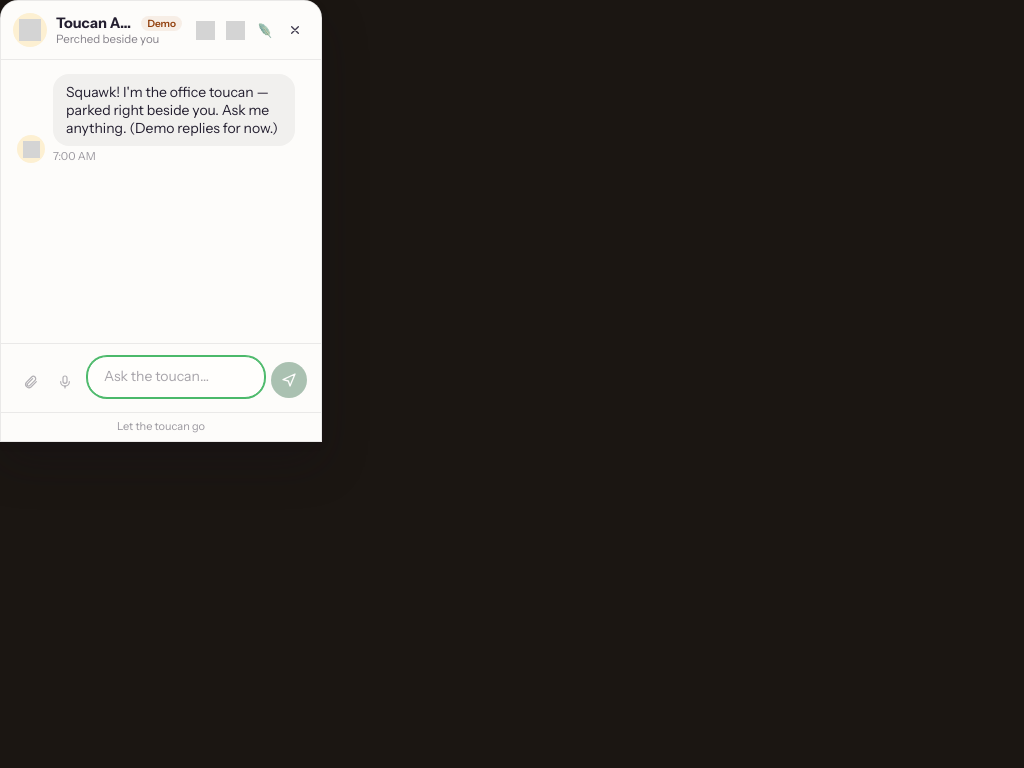
Toucan "New conversation" › clears the transcript back to the greeting
Type "hello toucan" into the text box named "Message the toucan".
click(176, 377); type("hello toucan")  # box [87,356,265,398]
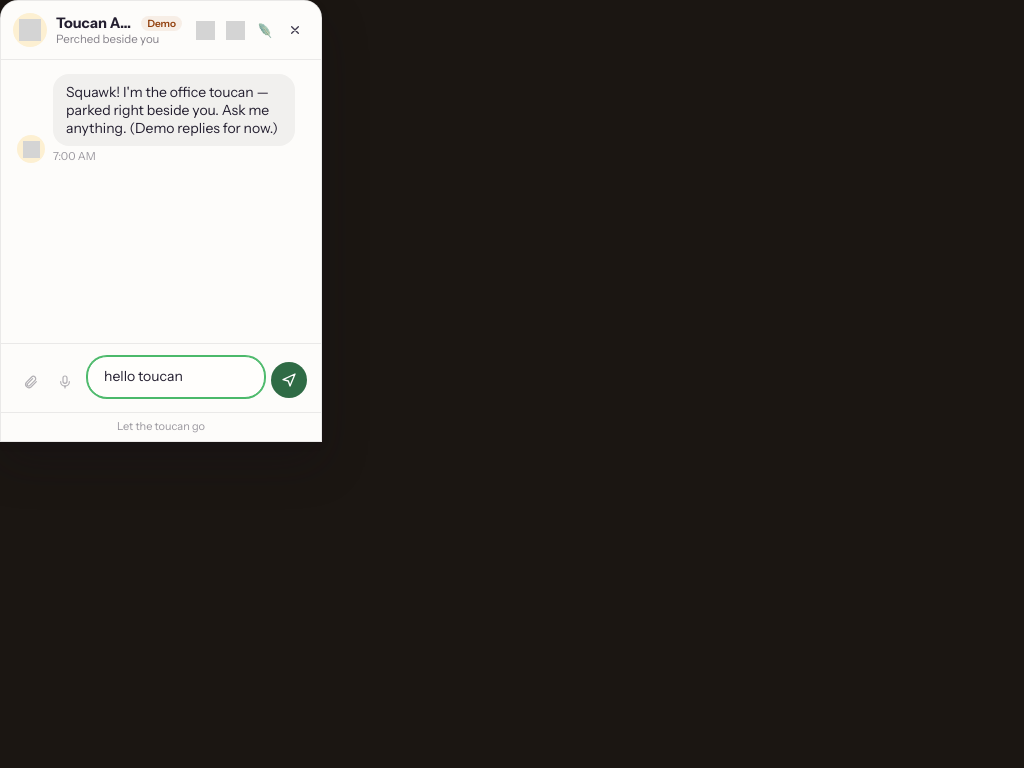
Press Enter in the text box named "Message the toucan", box [87,356,265,398]
Wait 1100 ms
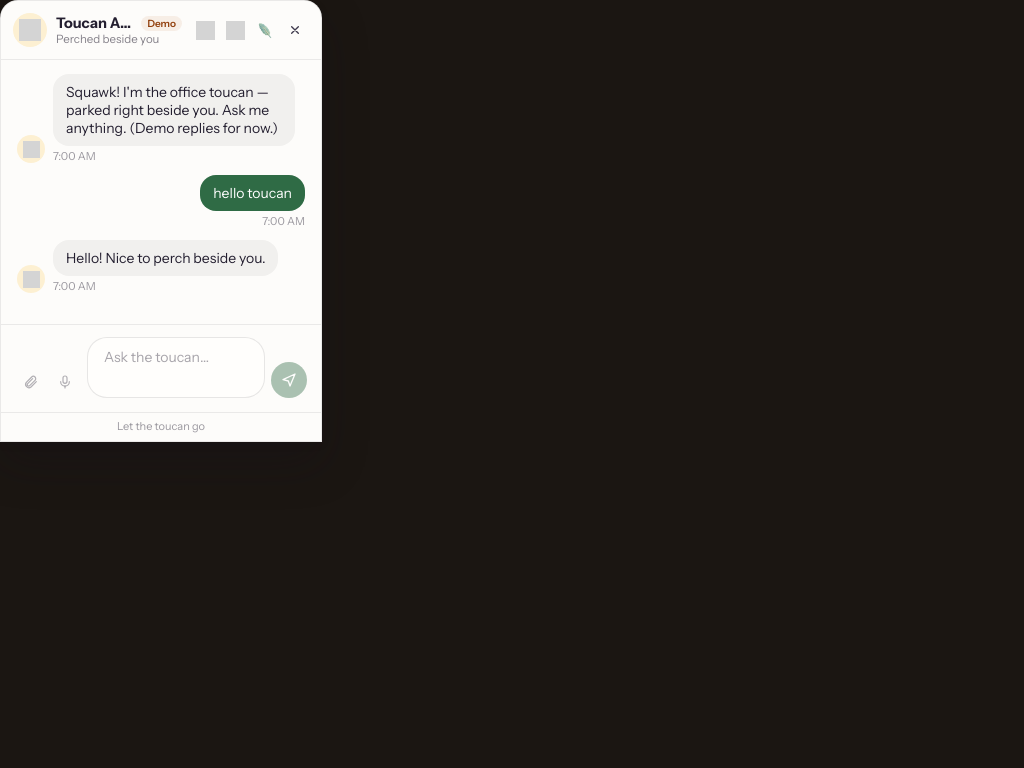
Result: the text "hello toucan" is shown at [200,175,305,211]
Click the button named "Start a new conversation".
click(265, 30)  # box [251,16,279,44]
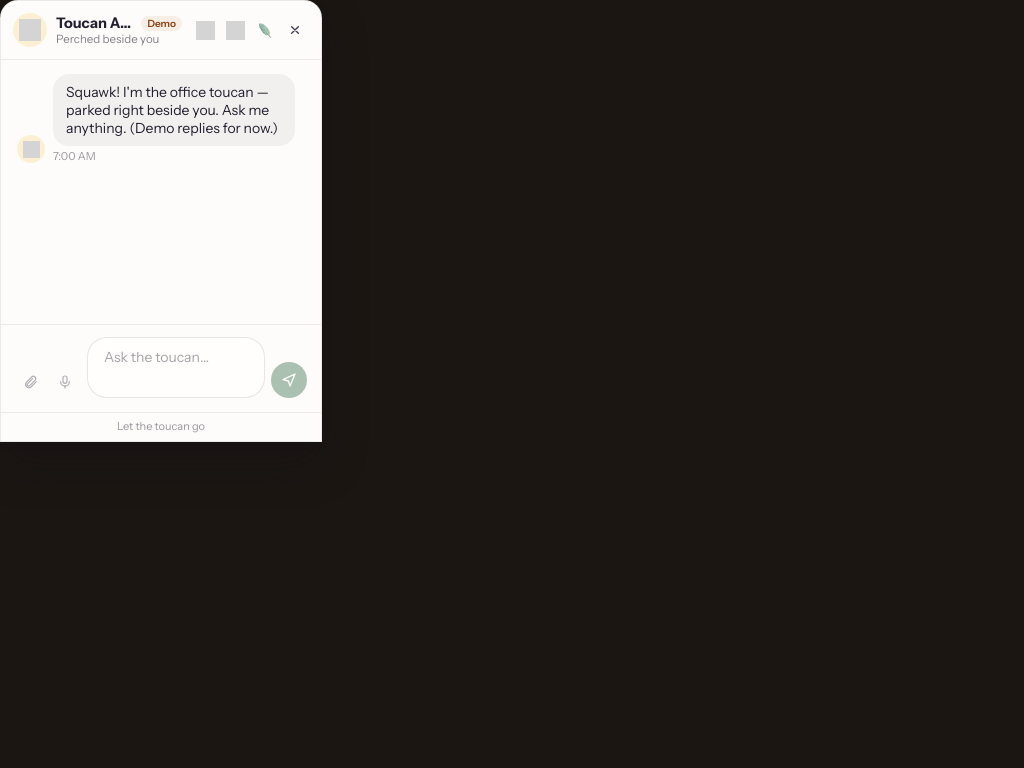
Expected: the text "I'm the office toucan" is shown, [66,83,278,137]
Result: the text "hello toucan" is gone
